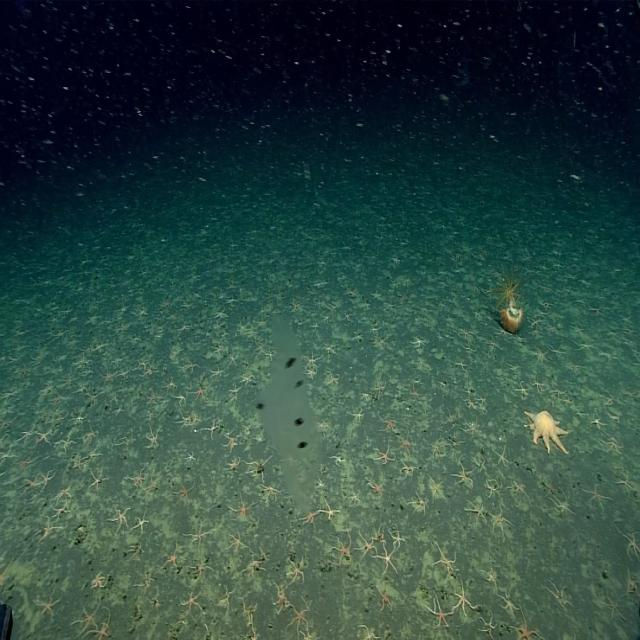brittle-stars: (426, 592, 452, 626), (288, 597, 310, 635), (453, 580, 472, 620), (36, 586, 61, 616), (547, 582, 572, 612), (513, 612, 539, 640), (583, 482, 611, 508), (76, 603, 100, 633), (332, 530, 352, 564), (186, 522, 210, 550), (619, 529, 640, 561), (434, 544, 456, 574), (375, 545, 398, 572), (464, 498, 487, 524), (228, 493, 250, 520), (272, 580, 289, 614), (95, 608, 113, 640), (179, 588, 203, 612), (497, 589, 518, 615), (109, 506, 130, 531), (550, 491, 572, 514), (602, 596, 623, 620), (453, 463, 474, 486), (163, 540, 179, 570), (357, 532, 377, 556), (492, 444, 512, 468), (408, 491, 428, 515), (243, 458, 267, 478), (288, 557, 306, 583), (35, 469, 56, 491), (428, 474, 444, 502), (173, 482, 194, 502), (615, 475, 636, 495), (37, 516, 56, 538), (376, 586, 392, 612), (480, 611, 496, 637), (492, 507, 508, 532), (396, 431, 412, 456), (375, 444, 394, 465), (133, 510, 150, 533), (229, 529, 245, 553), (89, 466, 105, 490), (16, 426, 36, 445), (320, 500, 340, 519), (260, 481, 278, 502), (247, 550, 262, 575), (389, 526, 404, 551), (530, 373, 548, 393), (602, 440, 626, 455), (188, 385, 209, 402), (304, 346, 320, 368), (370, 474, 385, 497), (130, 468, 146, 489), (146, 426, 160, 450), (462, 419, 480, 437), (117, 431, 134, 450), (359, 623, 377, 640), (223, 432, 239, 451), (485, 334, 501, 353), (145, 388, 160, 408), (84, 426, 98, 447), (180, 360, 201, 374), (58, 434, 75, 451), (171, 391, 188, 408), (52, 504, 70, 520), (56, 485, 72, 503), (534, 345, 550, 363), (299, 510, 318, 525), (574, 337, 593, 352), (509, 481, 527, 496), (548, 343, 566, 358), (204, 419, 218, 438), (177, 411, 192, 428), (90, 572, 104, 590), (382, 416, 396, 434), (408, 383, 422, 401), (431, 435, 442, 457), (36, 430, 51, 446), (401, 460, 416, 476), (591, 414, 606, 430), (225, 457, 241, 472), (350, 408, 364, 425), (93, 338, 108, 353), (515, 381, 529, 397), (550, 384, 566, 398), (211, 365, 225, 380), (229, 383, 243, 398), (323, 340, 336, 356), (165, 376, 178, 392), (410, 335, 427, 347), (103, 367, 114, 385), (326, 372, 340, 386), (118, 366, 131, 381), (476, 394, 489, 408), (460, 327, 474, 340), (304, 367, 318, 380), (72, 456, 85, 470), (50, 392, 64, 405), (317, 419, 330, 433), (228, 353, 240, 368), (242, 373, 256, 385), (214, 307, 228, 319), (180, 319, 192, 333), (225, 296, 240, 307), (530, 317, 542, 330), (74, 412, 86, 425), (456, 358, 468, 371), (186, 450, 196, 465), (138, 303, 147, 319), (254, 341, 265, 354), (467, 396, 477, 410), (182, 300, 193, 312), (372, 288, 382, 301), (352, 331, 362, 343), (315, 477, 325, 489), (322, 313, 332, 324), (266, 348, 275, 360), (292, 301, 301, 313)
